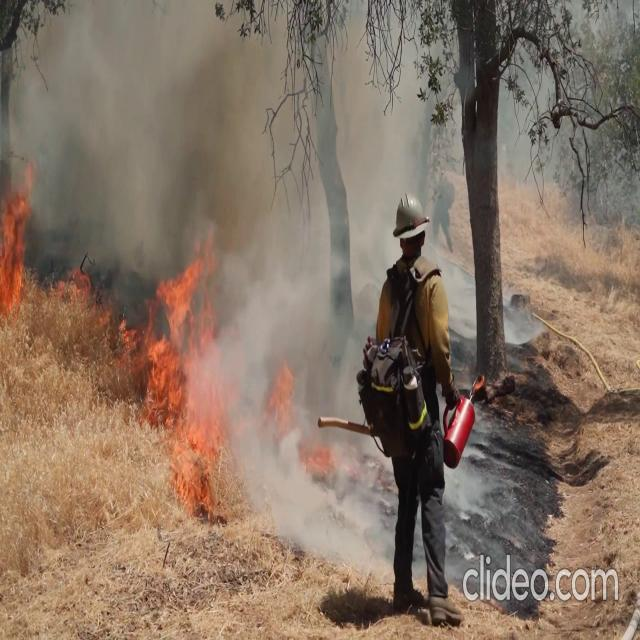Fire: (41, 3, 374, 525), (128, 242, 222, 514), (0, 163, 104, 321), (0, 162, 60, 320), (0, 161, 38, 314)
Smoke: (27, 12, 378, 531), (11, 7, 386, 268), (7, 3, 246, 272)
